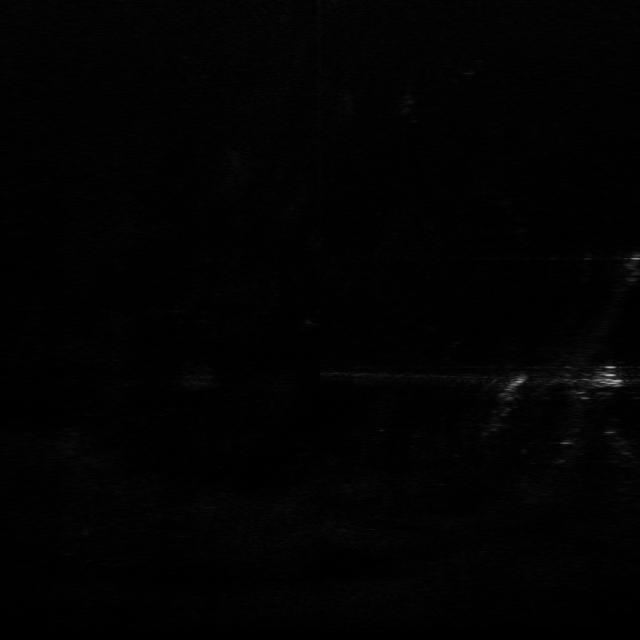rov: (594, 364, 624, 388)
